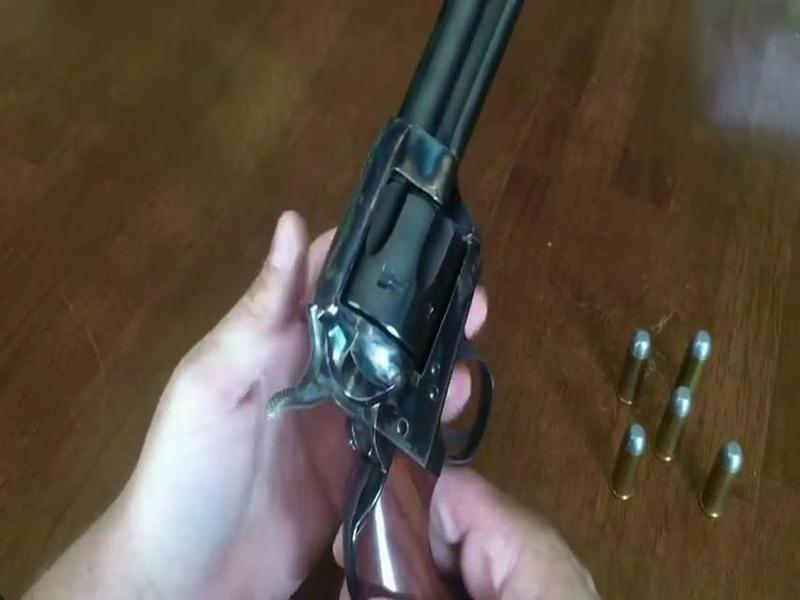Revolver: (318, 11, 497, 571)
